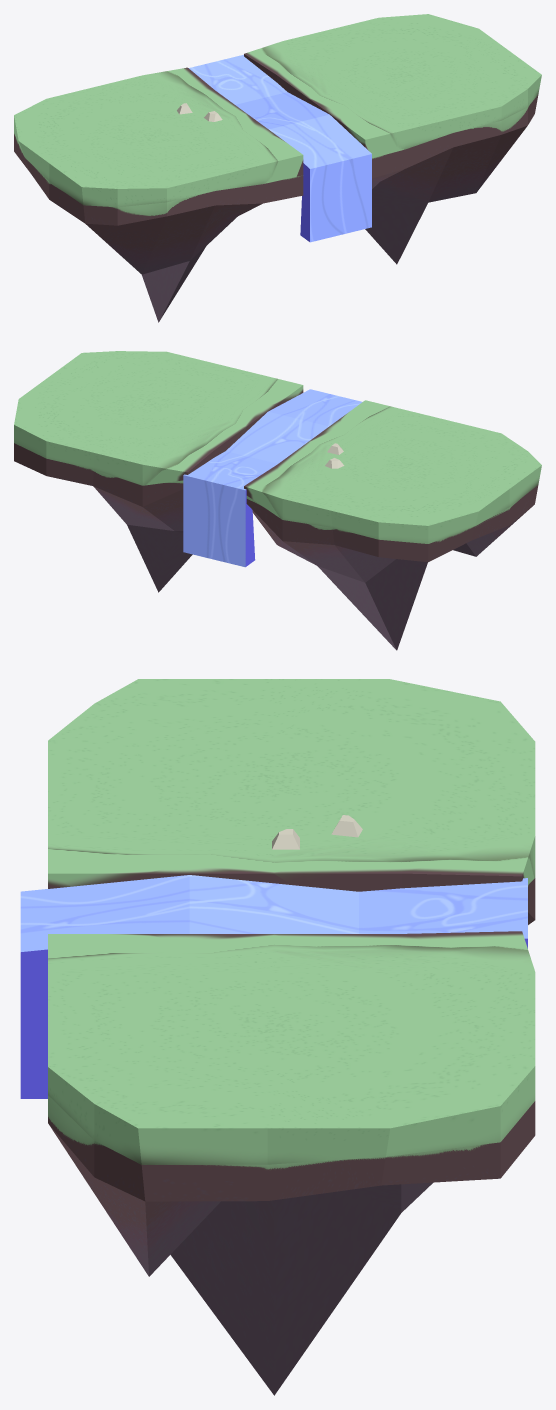
File: Competitions_Island.glb
3 views of the same model, one above another, from view 1: azimuth 30°, elevation 25°; view 2: azimuth 150°, elevation 25°; view 3: azimuth 270°, elevation 25° (orthographic). The views are drawn at different scales.
Visible parts, largest first — view 1: CompetitionIsland_Island, CompetitionIsland_River; view 2: CompetitionIsland_Island, CompetitionIsland_River; view 3: CompetitionIsland_Island, CompetitionIsland_River, Small_Rocks.
Part boxes in pixels (x1,y1,x2,y2): CompetitionIsland_Island: (14,14,541,322); CompetitionIsland_River: (189,54,371,242); CompetitionIsland_Island: (14,351,541,650); CompetitionIsland_River: (183,389,362,567); CompetitionIsland_Island: (48,679,535,1395); CompetitionIsland_River: (20,875,527,1098); Small_Rocks: (272,815,362,849).
Size of the model in its own units: 5.88 by 2.36 by 2.85.
1 material, 1 textured.
